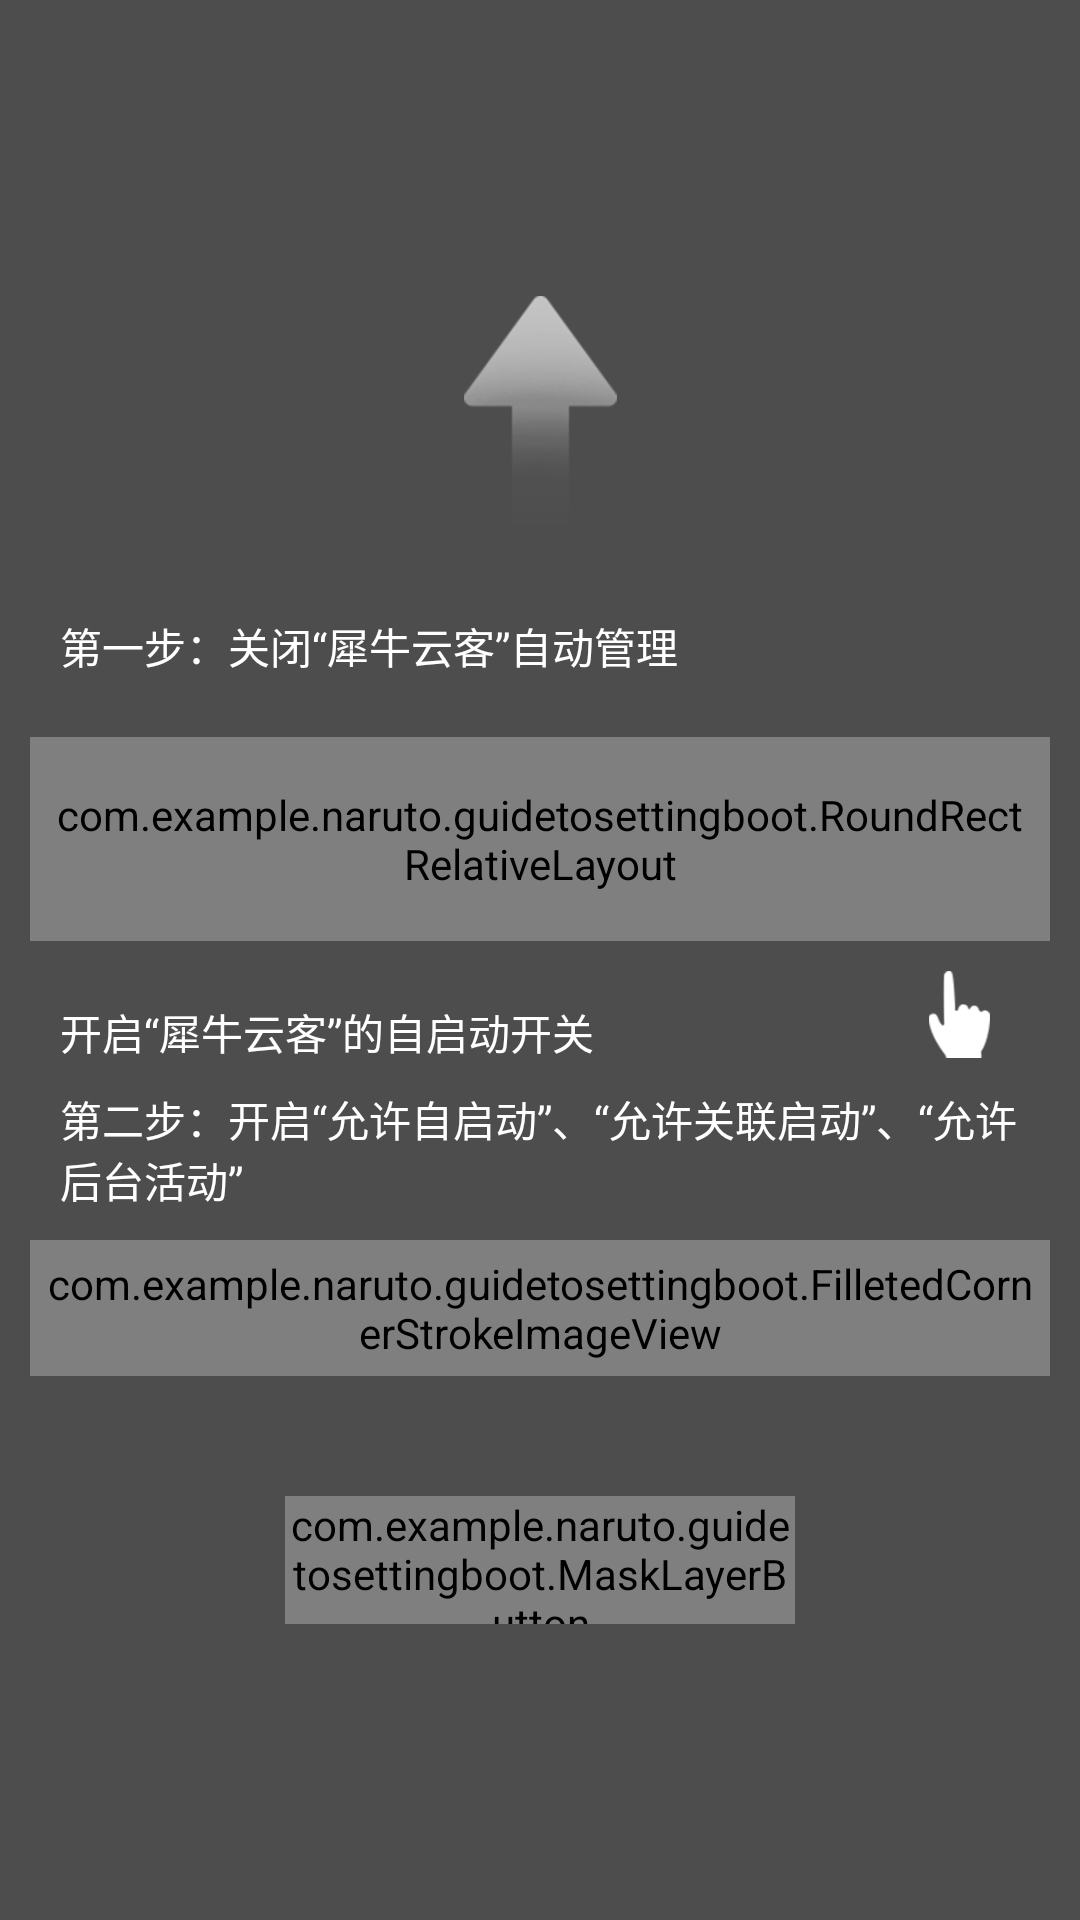

Screen size 1080px x 1920px. Icon name, then its center in pixels as point (x, y):
guide position: point (959, 1014)
slide up: point (540, 369)
